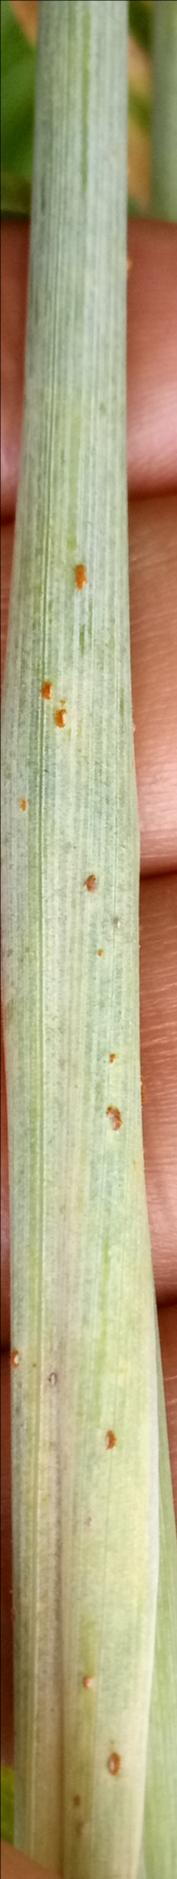Wheat: (28, 521, 138, 1543)
